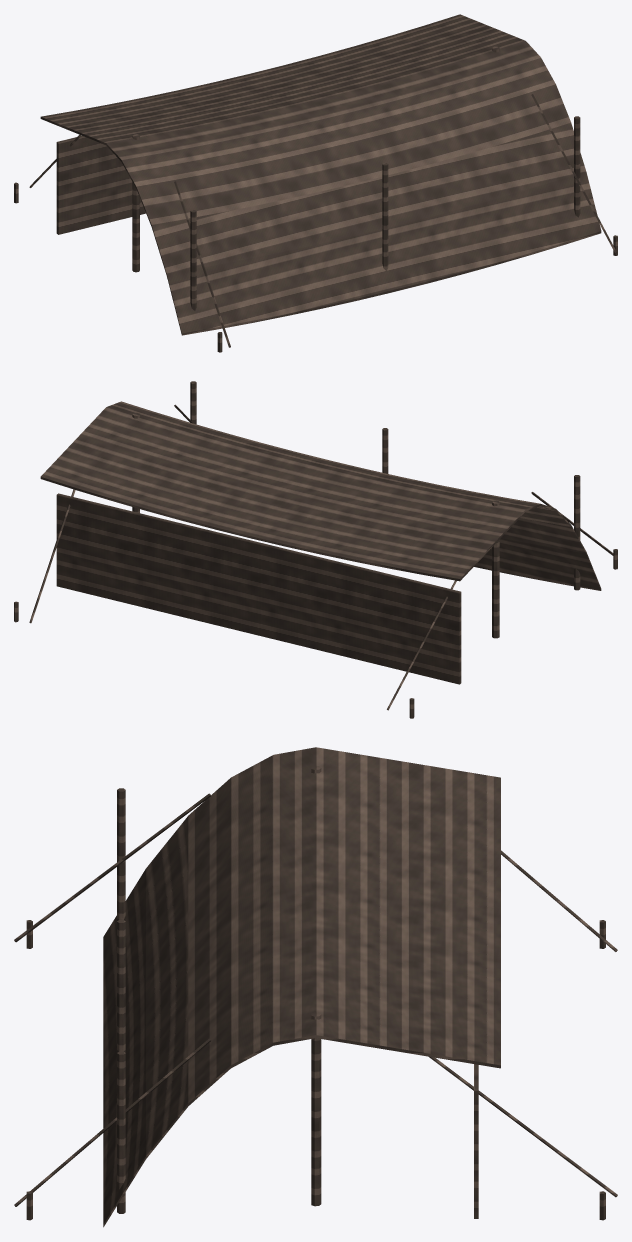
Rendered from bayt2.glb.
3 views of the same model, one above another, from view 1: azimuth 30°, elevation 25°; view 2: azimuth 150°, elevation 25°; view 3: azimuth 270°, elevation 25° (orthographic). The views are drawn at different scales.
Parts seen in each view (by area): view 1: bayt2; view 2: bayt2; view 3: bayt2.
Boxes of the visible parts, x1,y1,x2,y2 form: bayt2: [14, 14, 617, 352]; bayt2: [14, 381, 617, 718]; bayt2: [14, 747, 617, 1227].
Bounding box in the file's own units: 7 × 2.32 × 6.21.
Materials: 1 (1 with a texture image).
